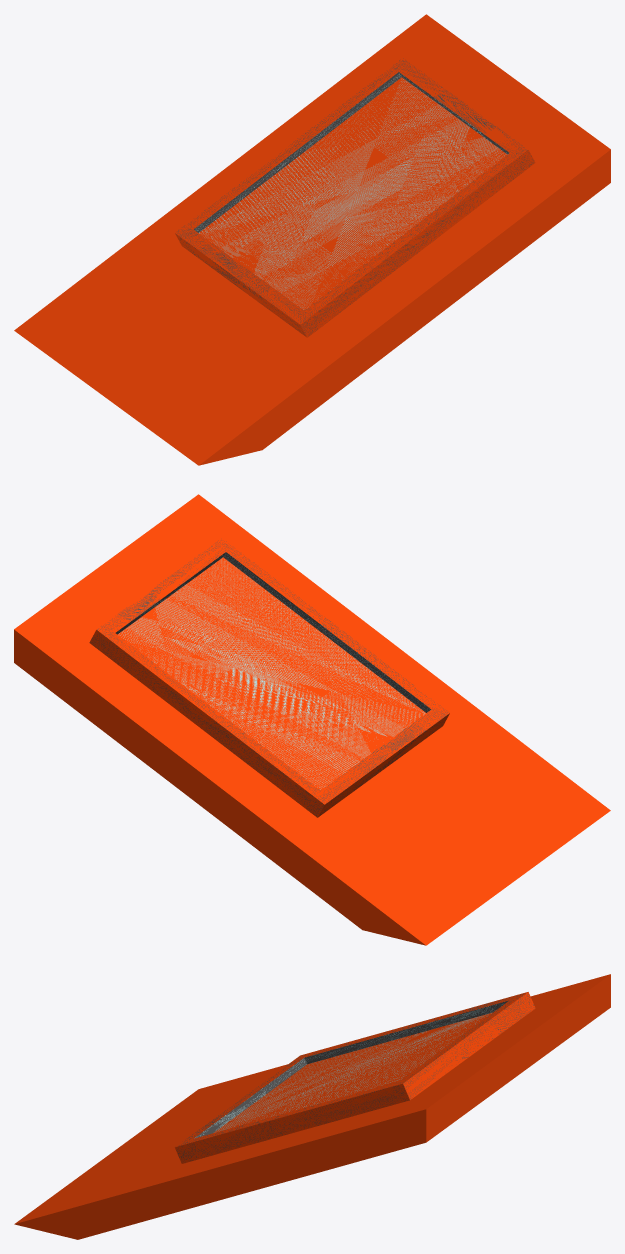
Rendered from roof_small_skylight_2.fbx.
3 views of the same model, one above another, from view 1: azimuth 30°, elevation 25°; view 2: azimuth 150°, elevation 25°; view 3: azimuth 330°, elevation 25° (orthographic).
Visible parts, largest first — view 1: Mesh1_sloped_roof_8_1 Model; view 2: Mesh1_sloped_roof_8_1 Model; view 3: Mesh1_sloped_roof_8_1 Model.
Boxes of the visible parts, x1,y1,x2,y2 form: Mesh1_sloped_roof_8_1 Model: [14, 14, 610, 465]; Mesh1_sloped_roof_8_1 Model: [14, 494, 610, 945]; Mesh1_sloped_roof_8_1 Model: [14, 974, 610, 1239].
Size of the model in its own units: 1.29 by 0.6447 by 1.
